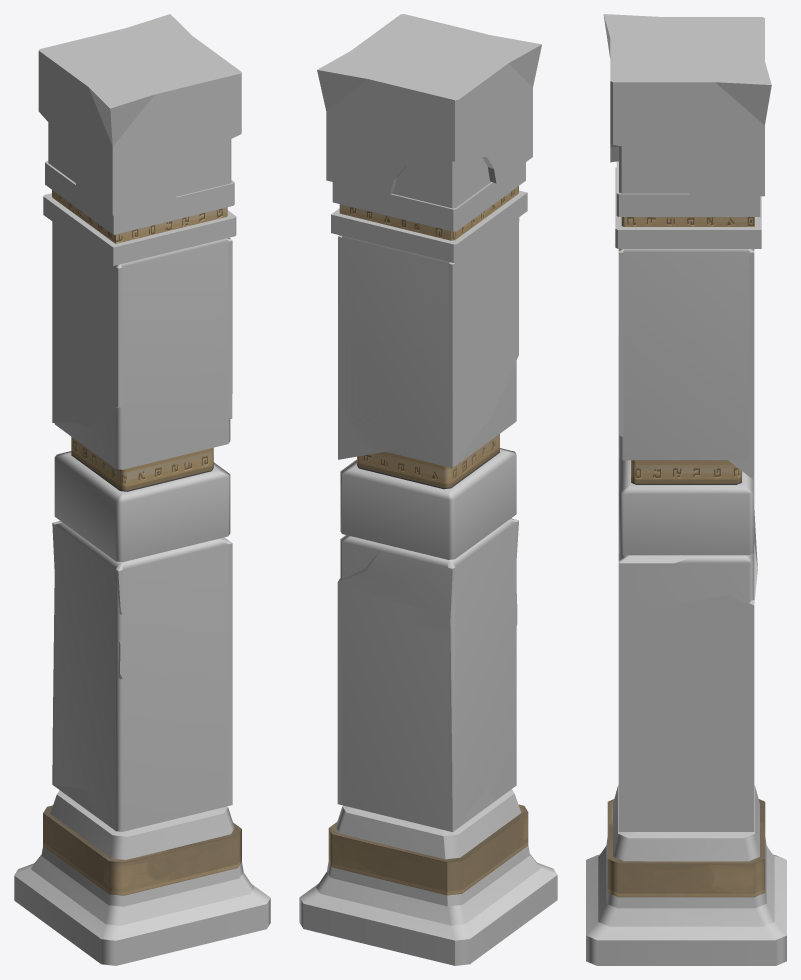
The model's file is SM_ModKit_Pillar_01.fbx.
3 views of the same model, side by side, from view 1: azimuth 30°, elevation 25°; view 2: azimuth 150°, elevation 25°; view 3: azimuth 270°, elevation 25° (orthographic). The views are drawn at different scales.
Parts seen in each view (by area): view 1: SM_Mod_Pillar_Middle_02, SM_Mod_Pillar_Top_01, SM_Mod_Pillar_Bottom_01, SM_Mod_Pillar_Middle_03, SM_Mod_Pillar_Cracked_01, SM_Mod_Pillar_Middle_04, SM_Mod_Pillar_Middle_01, SM_Mod_Pillar_Cracked_02; view 2: SM_Mod_Pillar_Top_01, SM_Mod_Pillar_Middle_02, SM_Mod_Pillar_Bottom_01, SM_Mod_Pillar_Middle_03, SM_Mod_Pillar_Cracked_01, SM_Mod_Pillar_Middle_04, SM_Mod_Pillar_Cracked_02, SM_Mod_Pillar_Middle_01; view 3: SM_Mod_Pillar_Top_01, SM_Mod_Pillar_Cracked_02, SM_Mod_Pillar_Middle_03, SM_Mod_Pillar_Bottom_01, SM_Mod_Pillar_Middle_04, SM_Mod_Pillar_Middle_02, SM_Mod_Pillar_Middle_01, SM_Mod_Pillar_Cracked_01.
Boxes of the visible parts, left/top/right/bottom form: SM_Mod_Pillar_Middle_02: left=54, top=521, right=228, bottom=831; SM_Mod_Pillar_Top_01: left=38, top=14, right=241, bottom=265; SM_Mod_Pillar_Bottom_01: left=14, top=790, right=270, bottom=965; SM_Mod_Pillar_Middle_03: left=54, top=238, right=230, bottom=469; SM_Mod_Pillar_Cracked_01: left=52, top=221, right=232, bottom=427; SM_Mod_Pillar_Middle_04: left=54, top=451, right=230, bottom=562; SM_Mod_Pillar_Middle_01: left=71, top=437, right=213, bottom=491; SM_Mod_Pillar_Cracked_02: left=52, top=521, right=232, bottom=814; SM_Mod_Pillar_Top_01: left=317, top=14, right=541, bottom=262; SM_Mod_Pillar_Middle_02: left=340, top=518, right=516, bottom=830; SM_Mod_Pillar_Bottom_01: left=299, top=789, right=557, bottom=965; SM_Mod_Pillar_Middle_03: left=342, top=236, right=516, bottom=466; SM_Mod_Pillar_Cracked_01: left=338, top=217, right=519, bottom=468; SM_Mod_Pillar_Middle_04: left=340, top=448, right=516, bottom=559; SM_Mod_Pillar_Cracked_02: left=337, top=519, right=518, bottom=832; SM_Mod_Pillar_Middle_01: left=357, top=434, right=499, bottom=489; SM_Mod_Pillar_Top_01: left=603, top=14, right=771, bottom=248; SM_Mod_Pillar_Cracked_02: left=618, top=510, right=757, bottom=831; SM_Mod_Pillar_Middle_03: left=618, top=249, right=754, bottom=460; SM_Mod_Pillar_Bottom_01: left=586, top=785, right=786, bottom=965; SM_Mod_Pillar_Middle_04: left=618, top=458, right=754, bottom=555; SM_Mod_Pillar_Middle_02: left=618, top=553, right=754, bottom=611; SM_Mod_Pillar_Middle_01: left=631, top=460, right=741, bottom=484; SM_Mod_Pillar_Cracked_01: left=618, top=249, right=754, bottom=479.
Bounding box in the file's own units: 125 × 600 × 125.
